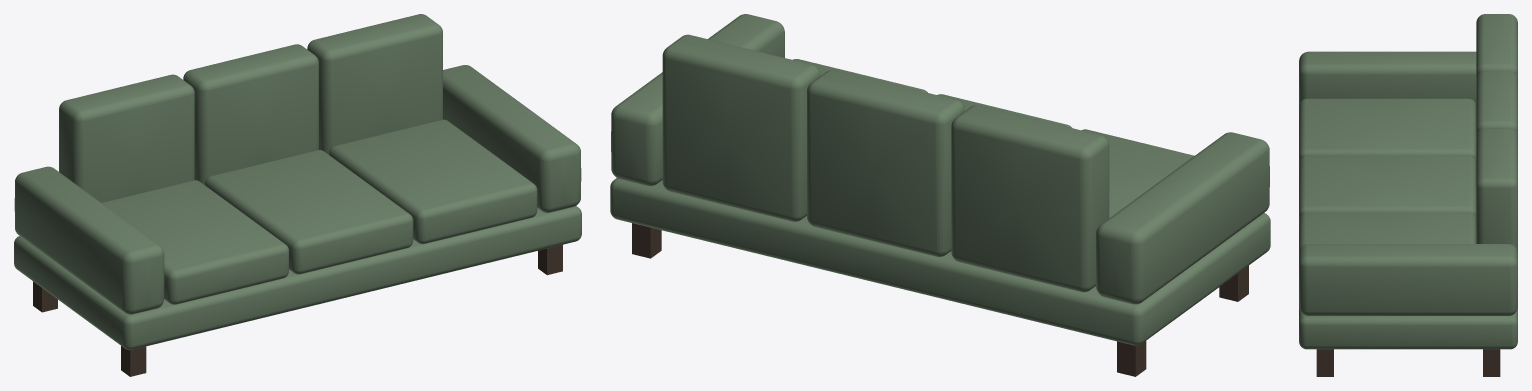
File: sofa-210.glb
The picture shows the model from 3 angles, left to right: view 1: azimuth 30°, elevation 25°; view 2: azimuth 150°, elevation 25°; view 3: azimuth 270°, elevation 25°; orthographic projection. The views are drawn at different scales.
Parts seen in each view (by area): view 1: base, seat_1, seat_2, back_0, back_1, back_2, seat_0, arm_0, arm_1, leg_0_1, leg_1_1, leg_0_0; view 2: base, back_0, back_2, back_1, arm_0, arm_1, seat_0, leg_0_0, leg_1_0, leg_0_1; view 3: arm_1, seat_1, seat_0, arm_0, base, seat_2, back_2, back_0, back_1, leg_1_0, leg_1_1.
Boxes of the visible parts, x1,y1,x2,y2 form: base: (14,206,581,350); seat_1: (204,150,413,274); seat_2: (329,119,537,244); back_0: (59,74,194,202); back_1: (183,44,318,184); back_2: (307,14,442,154); seat_0: (102,180,288,304); arm_0: (14,166,164,314); arm_1: (443,65,581,212); leg_0_1: (121,346,146,376); leg_1_1: (538,245,562,275); leg_0_0: (33,281,57,312); base: (610,178,1270,345); back_0: (951,105,1109,292); back_2: (662,34,820,221); back_1: (807,70,964,256); arm_0: (1096,132,1269,304); arm_1: (611,14,784,185); seat_0: (1082,129,1194,217); leg_0_0: (1117,341,1146,376); leg_1_0: (632,223,661,258); leg_0_1: (1219,265,1248,301); arm_1: (1299,244,1517,315); seat_1: (1299,156,1476,219); seat_0: (1299,98,1476,162); arm_0: (1299,51,1476,104); base: (1299,308,1517,349); seat_2: (1299,213,1476,251); back_2: (1476,128,1517,251); back_0: (1476,14,1517,78); back_1: (1476,71,1517,135); leg_1_0: (1483,349,1500,376); leg_1_1: (1316,349,1333,376).
Size of the model in its own units: 2.1 by 0.84 by 0.92.
